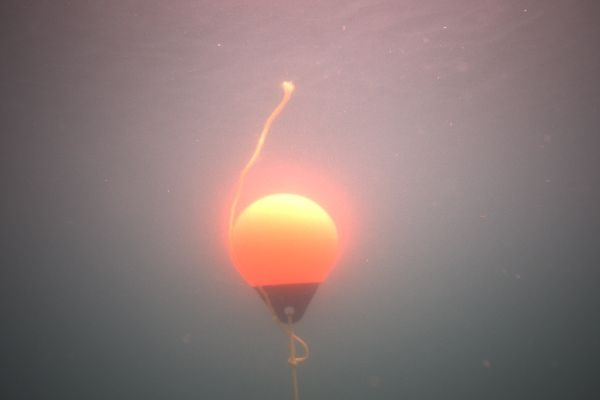buoy: (232, 194, 336, 326)
